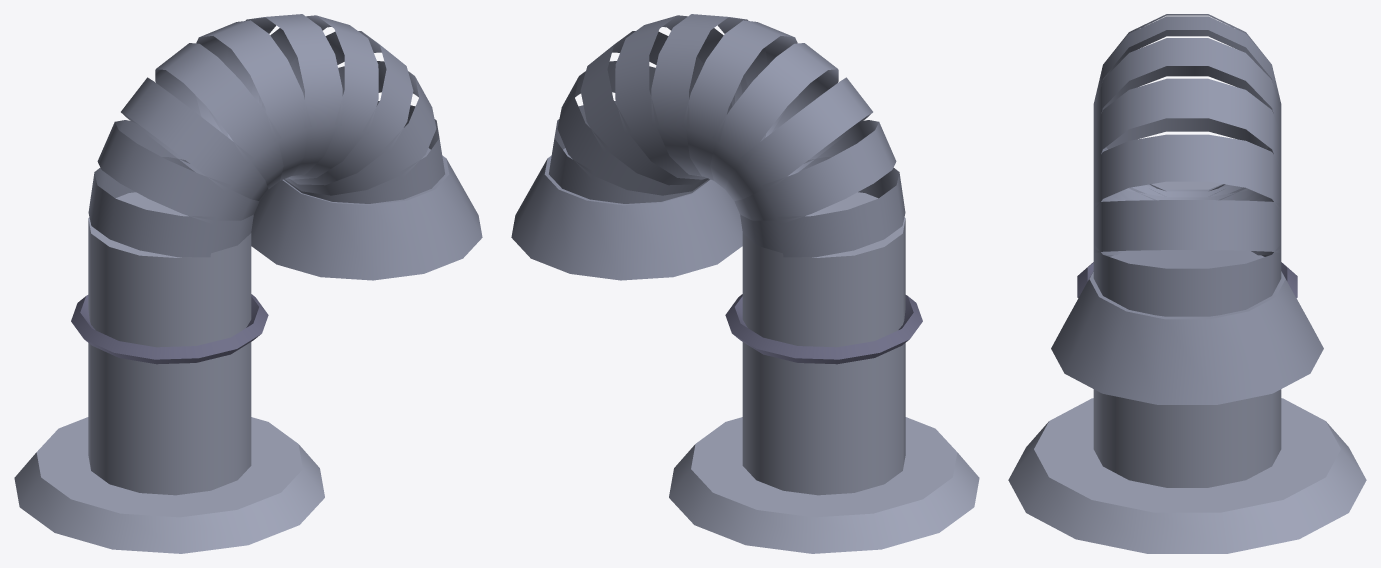
File: roof_vent.glb
3 renders of one model, left to right at view 1: azimuth 30°, elevation 25°; view 2: azimuth 150°, elevation 25°; view 3: azimuth 270°, elevation 25°, orthographic. The views are drawn at different scales.
Parts seen in each view (by area): view 1: hood, stack, band; view 2: hood, stack, band; view 3: hood, stack, band.
Boxes of the visible parts, bbox=[...] form: hood: bbox=[88, 14, 482, 280]; stack: bbox=[14, 192, 324, 553]; band: bbox=[71, 294, 268, 364]; hood: bbox=[511, 14, 905, 280]; stack: bbox=[669, 192, 979, 553]; band: bbox=[725, 294, 922, 364]; hood: bbox=[1051, 14, 1323, 404]; stack: bbox=[1008, 181, 1366, 553]; band: bbox=[1077, 262, 1297, 298].
Bounding box in the file's own units: 1.32 × 1.29 × 0.84.
